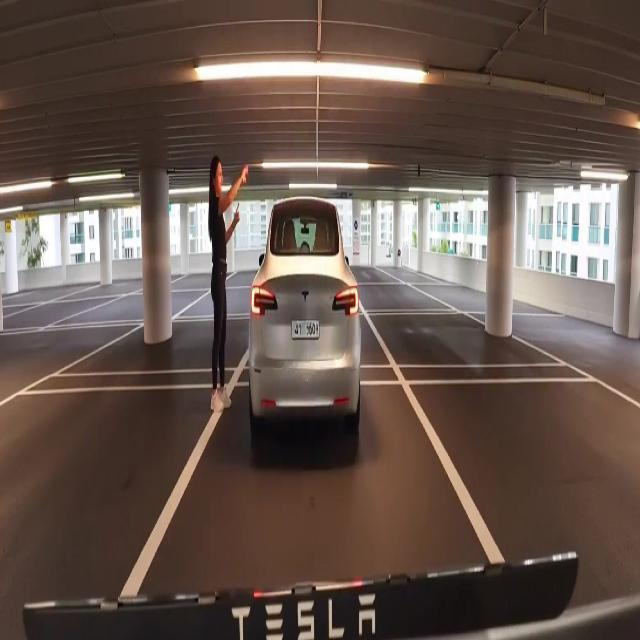car: (292, 321, 320, 341)
